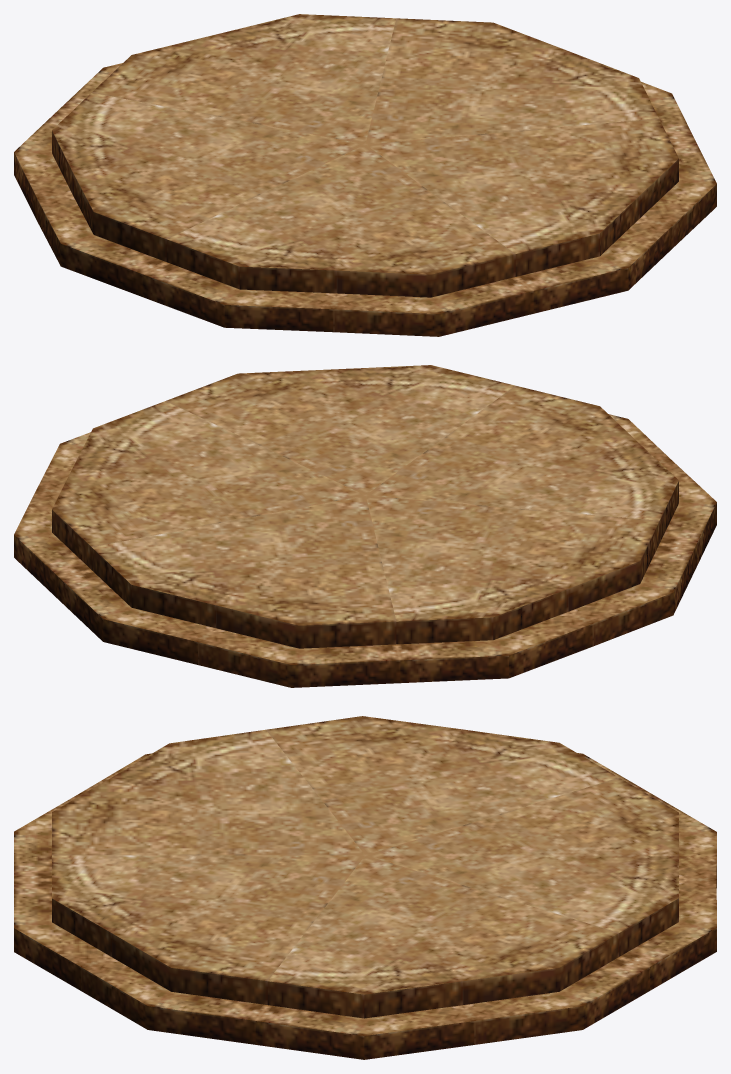
The model's file is warpgate02_01.glb.
3 views of the same model, one above another, from view 1: azimuth 30°, elevation 25°; view 2: azimuth 150°, elevation 25°; view 3: azimuth 270°, elevation 25° (orthographic). The views are drawn at different scales.
Parts seen in each view (by area): view 1: gate02; view 2: gate02; view 3: gate02.
Boxes of the visible parts, box(x1,y1,x2,y2) form: gate02: box(14, 14, 716, 336); gate02: box(14, 365, 716, 687); gate02: box(14, 716, 716, 1059).
Bounding box in the file's own units: 12.17 × 0.8804 × 11.58.
Materials: 1 (1 with a texture image).
